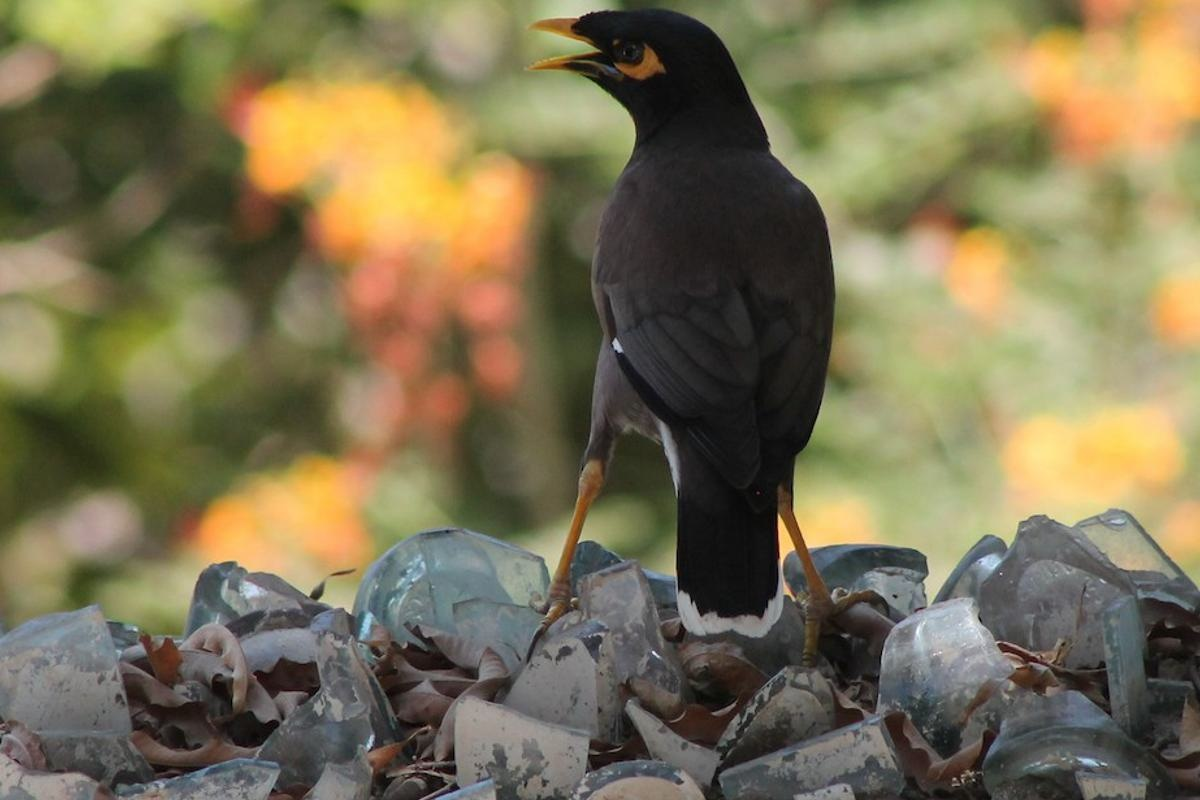myna: (497, 8, 865, 621)
